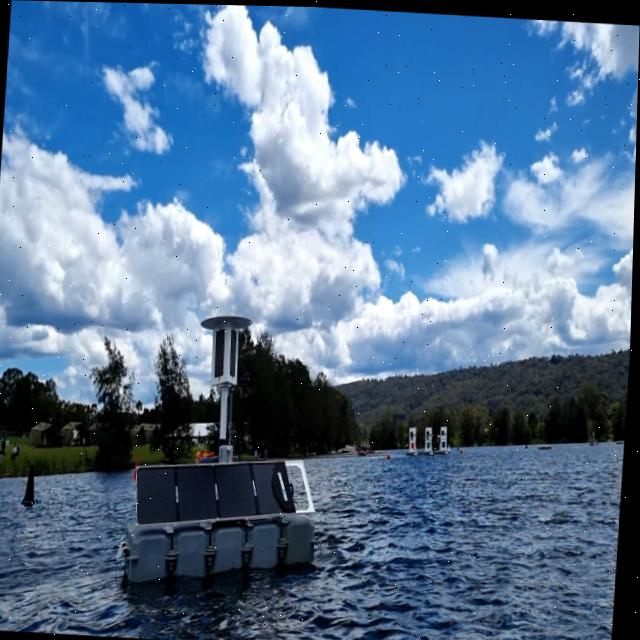led: (213, 328, 230, 379)
